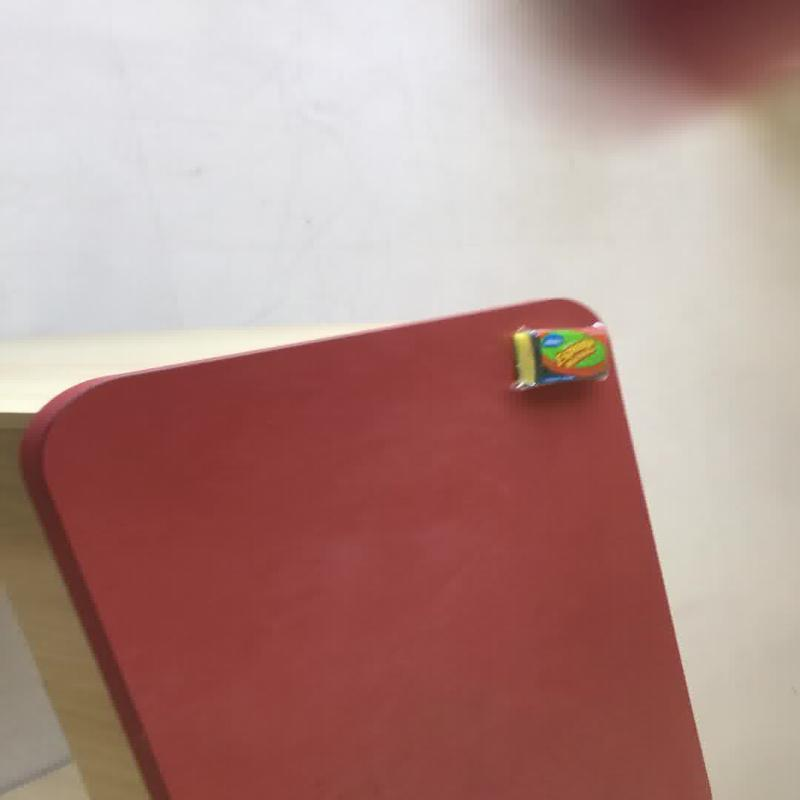sponge: (17, 295, 713, 798), (509, 322, 611, 390)
